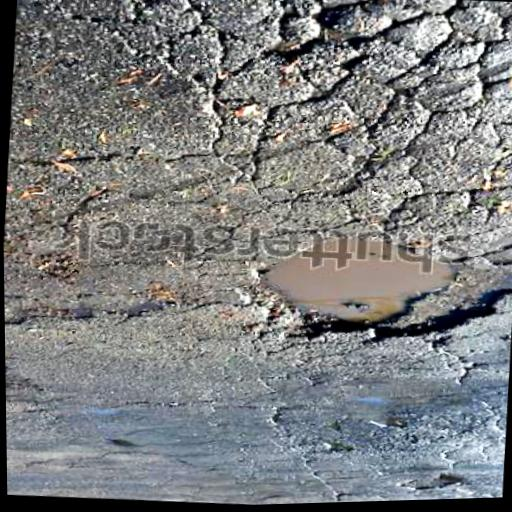pothole: (231, 222, 512, 365), (393, 471, 468, 497)
